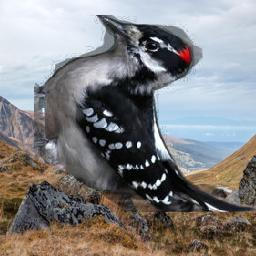Woodpecker: (34, 16, 256, 213)
